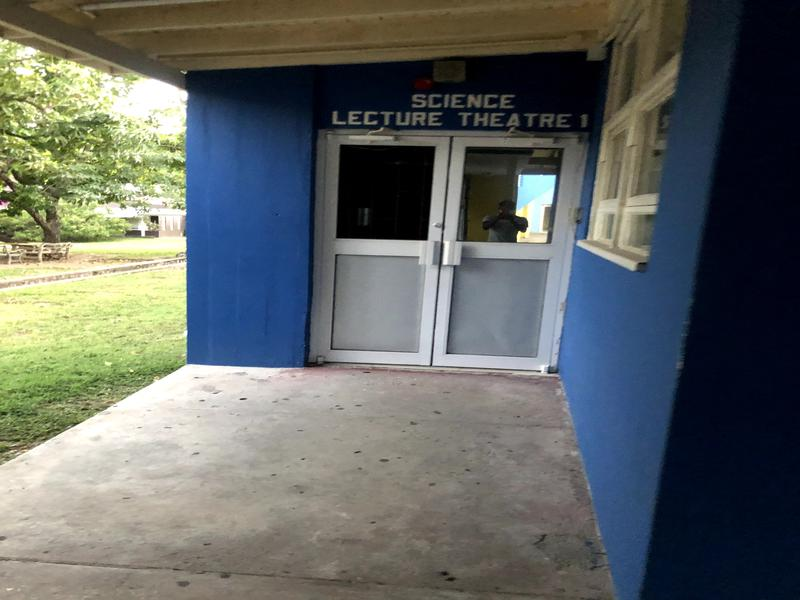18.0051836_-76.7497262_pclt1: (296, 71, 596, 400)
